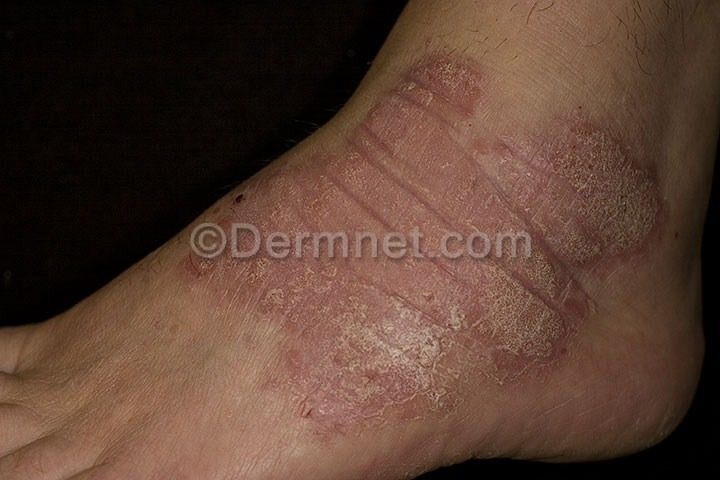Psoriasis: (195, 47, 590, 409), (534, 118, 669, 266)
